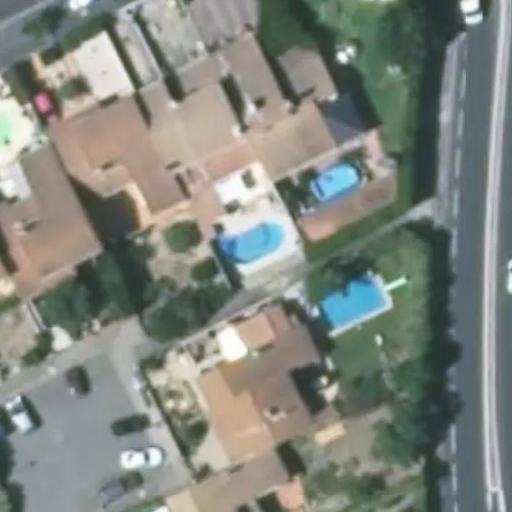pool: (220, 241, 294, 245)
